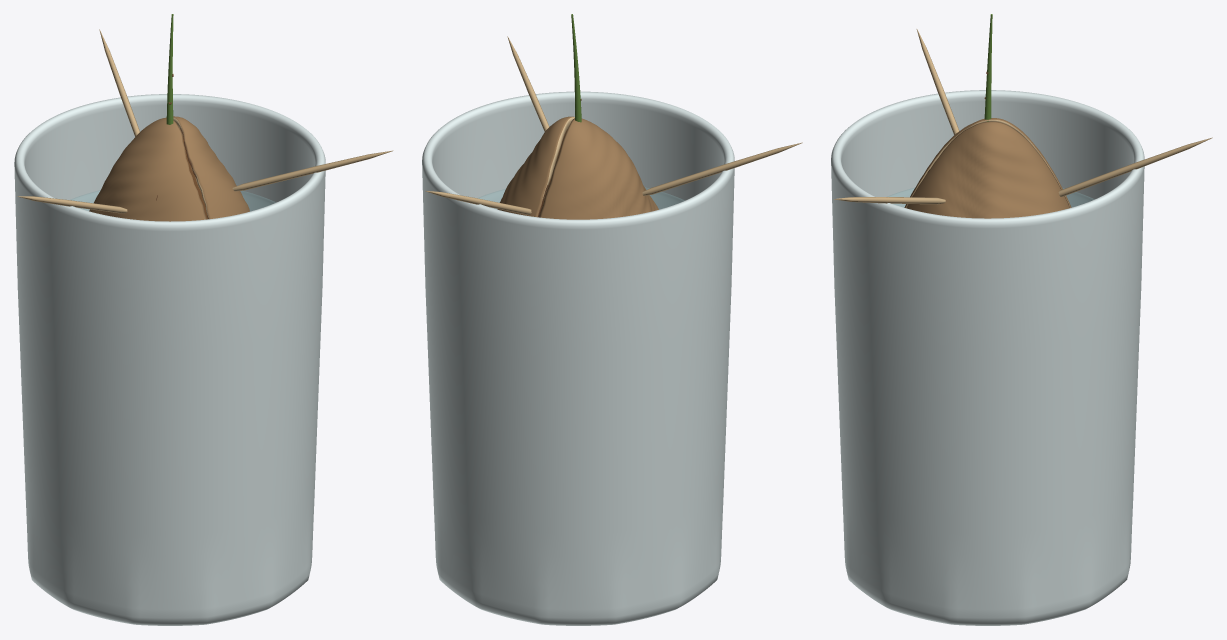
The model's file is stem.glb.
The picture shows the model from 3 angles, left to right: view 1: azimuth 30°, elevation 25°; view 2: azimuth 150°, elevation 25°; view 3: azimuth 270°, elevation 25°; orthographic projection.
Visible parts, largest first — view 1: Стакан · венчик и гранёное дно, Семядоля, Семядоля.001, Зубочистка.002, Зубочистка.001, Зубочистка, Вода, Стебель; view 2: Стакан · венчик и гранёное дно, Семядоля, Семядоля.001, Зубочистка.001, Зубочистка, Зубочистка.002, Вода, Стебель; view 3: Стакан · венчик и гранёное дно, Семядоля.001, Зубочистка, Семядоля, Зубочистка.002, Зубочистка.001, Стебель.
Boxes of the visible parts, left/top/right/bottom form: Стакан · венчик и гранёное дно: left=14, top=94, right=325, bottom=625; Семядоля: left=89, top=118, right=206, bottom=221; Семядоля.001: left=165, top=116, right=249, bottom=219; Зубочистка.002: left=232, top=150, right=393, bottom=191; Зубочистка.001: left=17, top=196, right=127, bottom=213; Зубочистка: left=99, top=29, right=139, bottom=136; Вода: left=70, top=190, right=275, bottom=211; Стебель: left=166, top=14, right=173, bottom=124; Стакан · венчик и гранёное дно: left=422, top=91, right=734, bottom=625; Семядоля: left=539, top=118, right=658, bottom=219; Семядоля.001: left=497, top=116, right=574, bottom=217; Зубочистка.001: left=642, top=142, right=802, bottom=195; Зубочистка: left=425, top=191, right=531, bottom=215; Зубочистка.002: left=507, top=36, right=549, bottom=131; Вода: left=478, top=187, right=684, bottom=209; Стебель: left=571, top=14, right=581, bottom=122; Стакан · венчик и гранёное дно: left=831, top=90, right=1144, bottom=625; Семядоля.001: left=906, top=121, right=1069, bottom=218; Зубочистка: left=1058, top=137, right=1212, bottom=196; Семядоля: left=904, top=118, right=1071, bottom=207; Зубочистка.002: left=834, top=197, right=945, bottom=204; Зубочистка.001: left=916, top=29, right=959, bottom=134; Стебель: left=984, top=14, right=992, bottom=121.
Bounding box in the file's own units: 0.0932 × 0.1474 × 0.0913.
